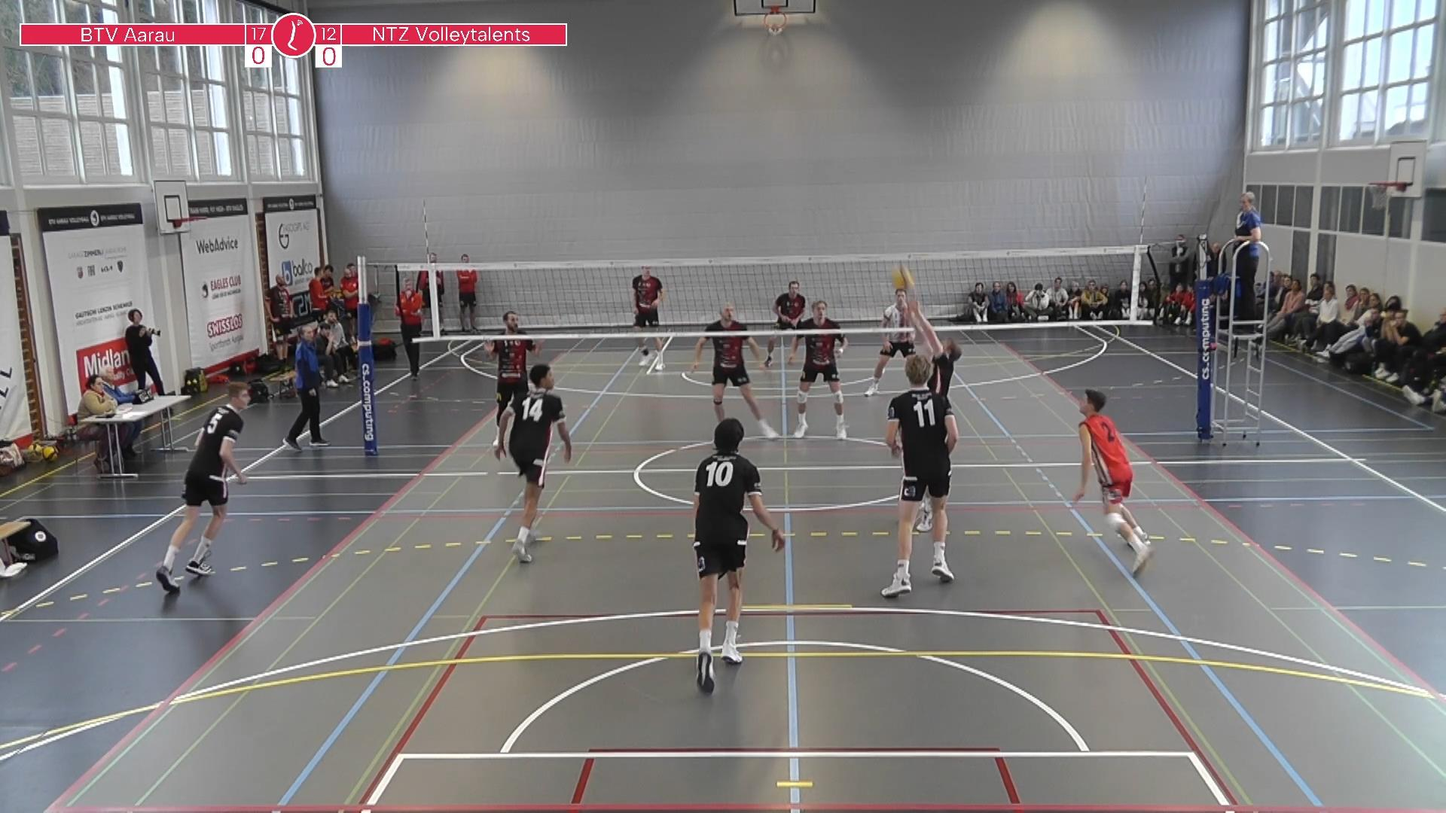Player: (694, 419, 784, 692), (155, 382, 250, 594), (882, 355, 957, 597), (495, 364, 572, 562), (1071, 390, 1153, 573), (691, 303, 779, 439), (484, 311, 539, 426), (788, 333, 847, 439), (865, 288, 914, 396), (631, 266, 665, 330), (773, 281, 807, 330)
Set: (894, 291, 961, 415)
ball: (889, 262, 913, 287)
